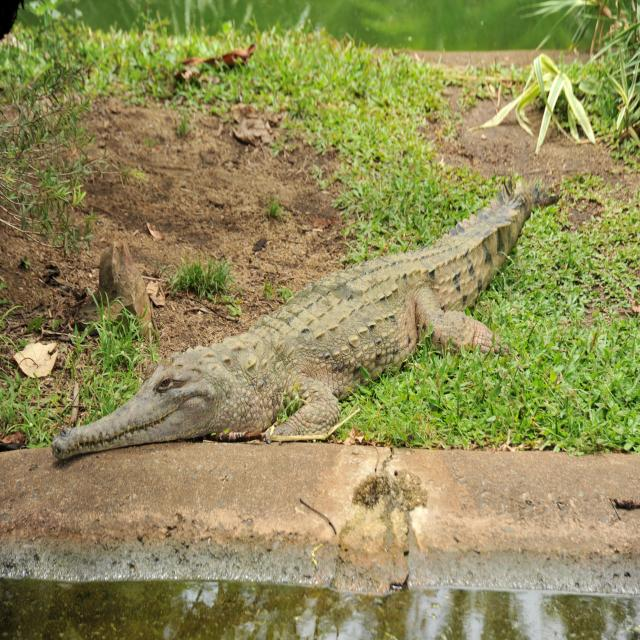crocodile: (53, 197, 540, 470)
